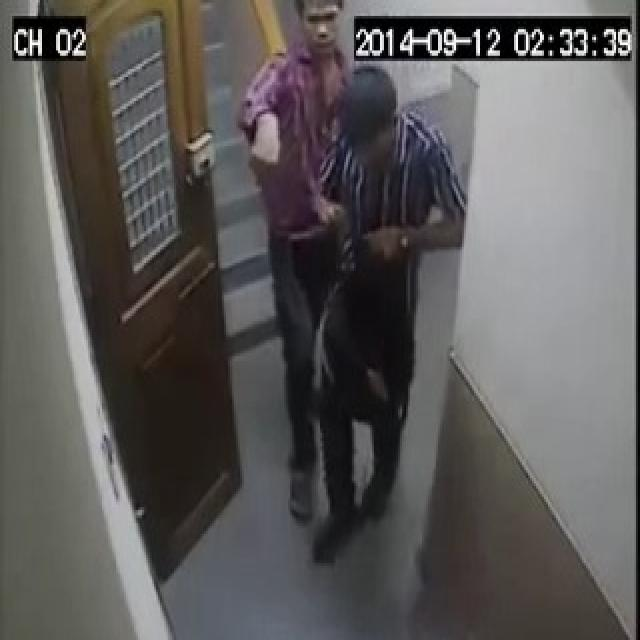thief: (245, 0, 452, 559)
